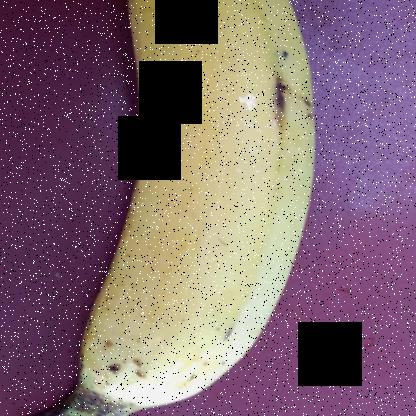freshripe: (28, 1, 409, 396)
